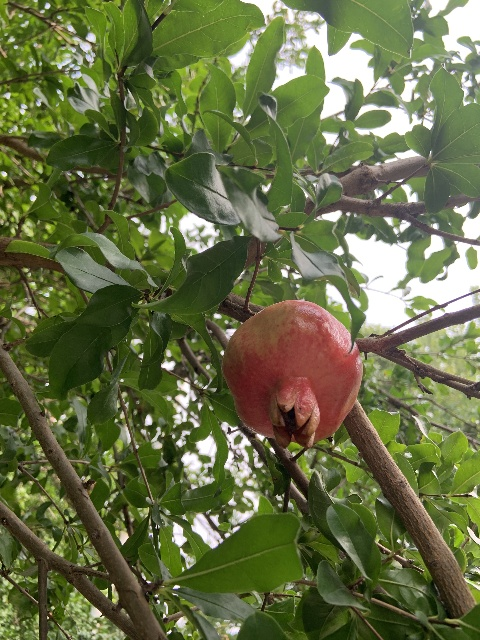ripe: (221, 299, 363, 448)
